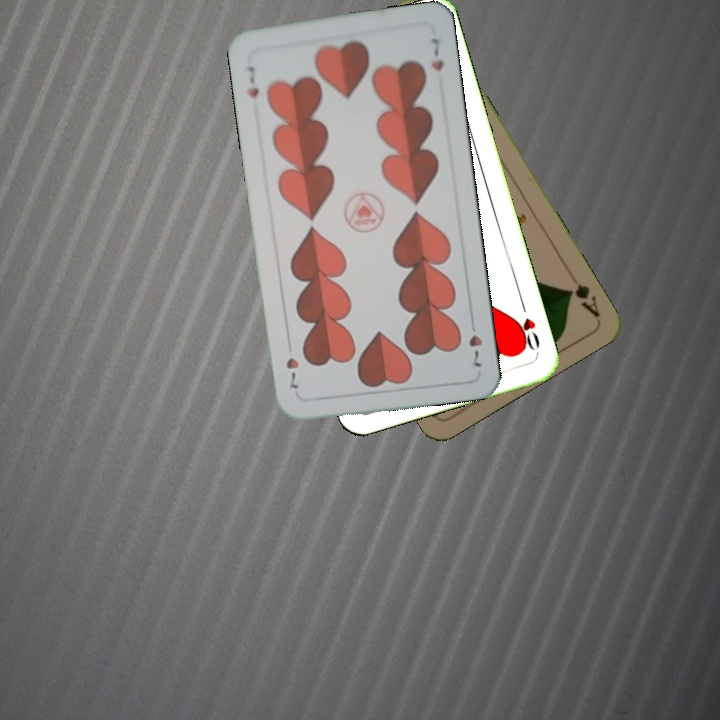GA: (562, 279, 603, 320)
H7: (465, 314, 485, 370), (244, 62, 262, 101)
HO: (511, 298, 542, 353)
